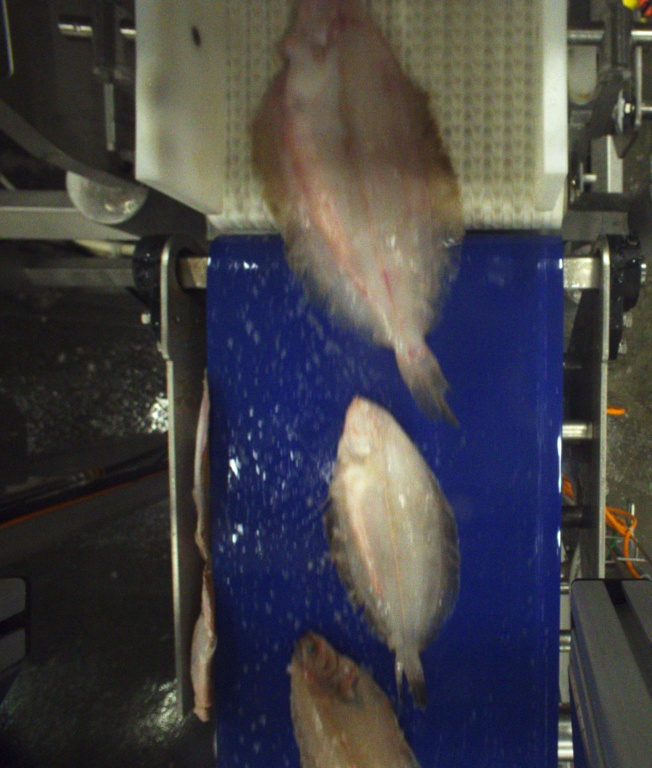WIT: (248, 0, 467, 435)
